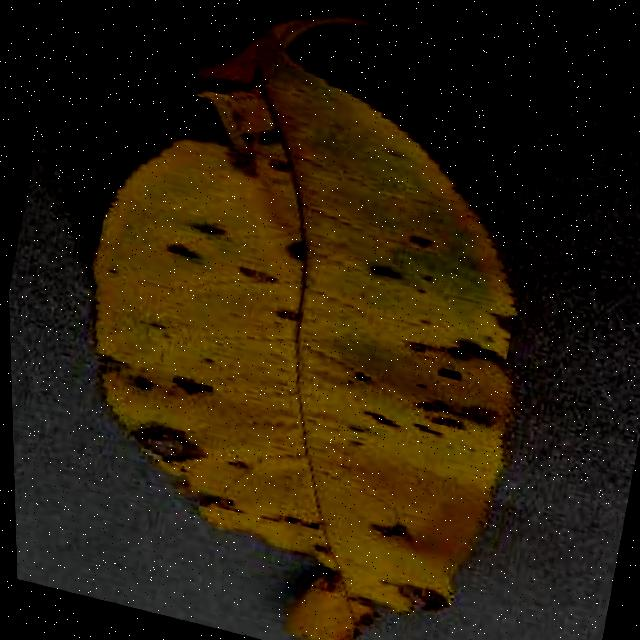Bacterial_spot: (392, 318, 508, 403), (407, 384, 515, 463), (121, 342, 233, 416), (258, 501, 348, 555), (357, 246, 438, 299), (365, 500, 433, 558), (339, 395, 404, 453), (153, 226, 221, 279), (231, 255, 292, 300), (399, 222, 454, 267), (281, 223, 328, 274), (269, 302, 319, 347), (221, 442, 270, 485), (192, 212, 242, 249)
